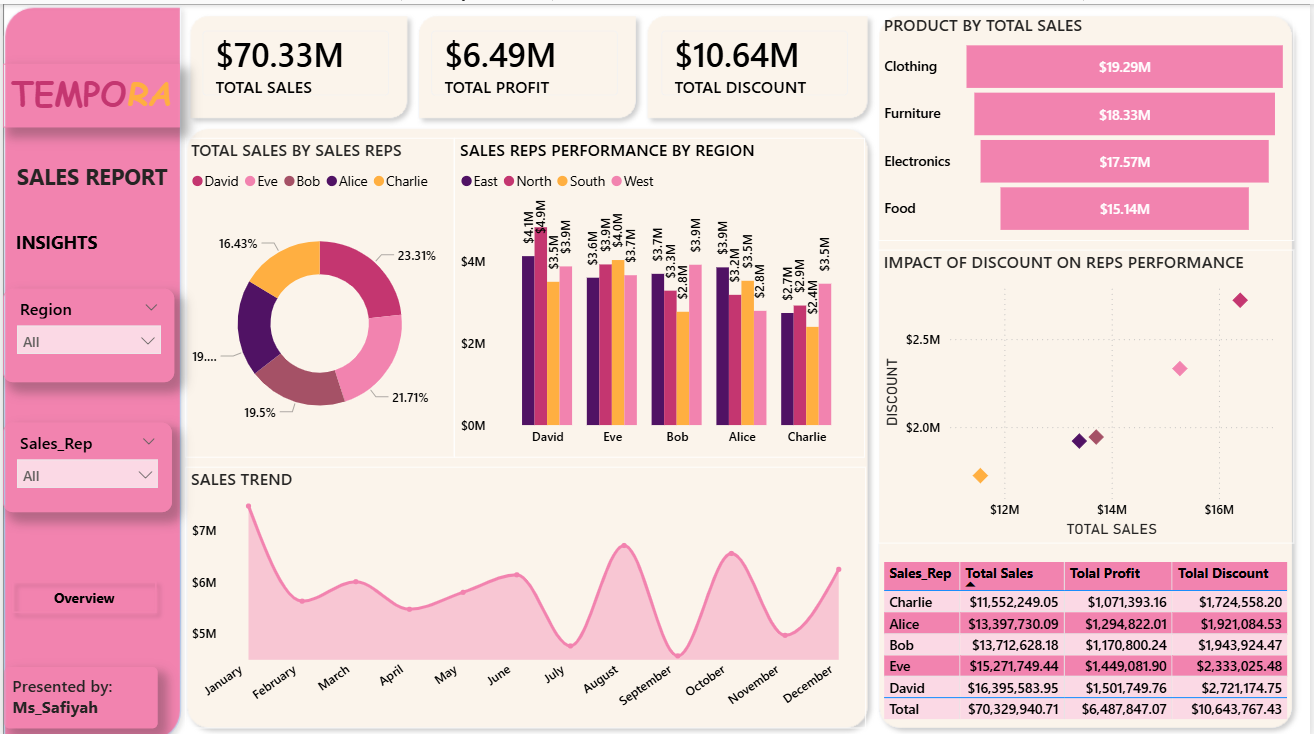

What the dashboard file says about the page in this screenshot:
{"tool":"powerbi","page":{"name":"Sales Report","canvas":[1280,720],"ordinal":0},"visuals":[{"type":"clusteredColumnChart","title":"SALES REPS PERFORMANCE BY REGION","fields":{"Category":["sales_data.Sales_Rep"],"Series":["sales_data.Region"],"Y":["Sum(sales_data.Sales_Price)"]},"box":[441.7,131.1,402.3,313.2],"z":0},{"type":"tableEx","fields":{"Values":["sales_data.Sales_Rep","Sum(sales_data.Sales_Price)","Sum(sales_data.Profit)","Sum(sales_data.Discount_price)"]},"box":[856.8,541,407.4,166.8],"z":1000},{"type":"areaChart","title":"SALES TREND","fields":{"Category":["sales_data.Sale_Date.Variation.Date Hierarchy.Month"],"Y":["Sum(sales_data.Sales_Price)"]},"box":[178.2,453.2,667.1,255.9],"z":2000},{"type":"scatterChart","title":"IMPACT OF DISCOUNT ON REPS PERFORMANCE","fields":{"Category":["sales_data.Sales_Rep"],"X":["Sum(sales_data.Sales_Price)"],"Y":["Sum(sales_data.Discount_price)"]},"box":[856.8,240.6,407.4,287.7],"z":3000},{"type":"donutChart","title":"TOTAL SALES BY SALES REPS","fields":{"Category":["sales_data.Sales_Rep"],"Y":["Sum(sales_data.Sales_Price)"]},"box":[178.2,131.1,263.5,313.2],"z":4000},{"type":"funnel","title":"PRODUCT BY TOTAL SALES","fields":{"Category":["sales_data.Product_Category"],"Y":["Sum(sales_data.Sales_Price)"]},"box":[856.8,8.9,407.4,222.8],"z":5000},{"type":"cardVisual","fields":{"Data":["Sum(sales_data.Sales_Price)"]},"box":[178.2,8.9,217.7,98],"z":6000},{"type":"cardVisual","fields":{"Data":["Sum(sales_data.Discount_price)"]},"box":[627.6,8.9,217.7,98],"z":7000},{"type":"cardVisual","fields":{"Data":["Sum(sales_data.Profit)"]},"box":[402.3,8.9,217.7,98],"z":8000},{"type":"textbox","box":[0,58.6,173,62.4],"z":9000},{"type":"textbox","box":[2.5,148.9,169.3,42],"z":10000},{"type":"slicer","fields":{"Values":["sales_data.Region"]},"box":[0,278.8,168,91.7],"z":11000},{"type":"slicer","fields":{"Values":["sales_data.Sales_Rep"]},"box":[0,409.9,165.5,87.8],"z":12000},{"type":"textbox","box":[1.3,649.2,150.2,59.8],"z":13000},{"type":"pageNavigator","box":[0,556.3,159.1,49.6],"z":14000},{"type":"actionButton","box":[2.5,212.6,157.9,39.5],"z":16000}]}

Visuals, with their boxes in screenshot pixels (x1, y1, x2, y2), scaled from the page's 1280x720 canvas onto the 1314x734 screenshot:
"SALES REPS PERFORMANCE BY REGION" clusteredColumnChart: crop(453, 134, 866, 453)
tableEx - sales_data.Sales_Rep x Sum(sales_data.Sales_Price): crop(880, 552, 1298, 722)
"SALES TREND" areaChart: crop(183, 462, 868, 723)
"IMPACT OF DISCOUNT ON REPS PERFORMANCE" scatterChart: crop(880, 245, 1298, 539)
"TOTAL SALES BY SALES REPS" donutChart: crop(183, 134, 453, 453)
"PRODUCT BY TOTAL SALES" funnel: crop(880, 9, 1298, 236)
cardVisual - Sum(sales_data.Sales_Price): crop(183, 9, 406, 109)
cardVisual - Sum(sales_data.Discount_price): crop(644, 9, 868, 109)
cardVisual - Sum(sales_data.Profit): crop(413, 9, 636, 109)
textbox: crop(0, 60, 178, 123)
textbox: crop(3, 152, 176, 195)
slicer - sales_data.Region: crop(0, 284, 172, 378)
slicer - sales_data.Sales_Rep: crop(0, 418, 170, 507)
textbox: crop(1, 662, 156, 723)
pageNavigator: crop(0, 567, 163, 618)
actionButton: crop(3, 217, 165, 257)
